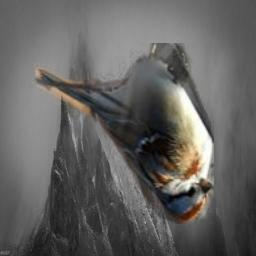Sparrow: (34, 43, 214, 224)
